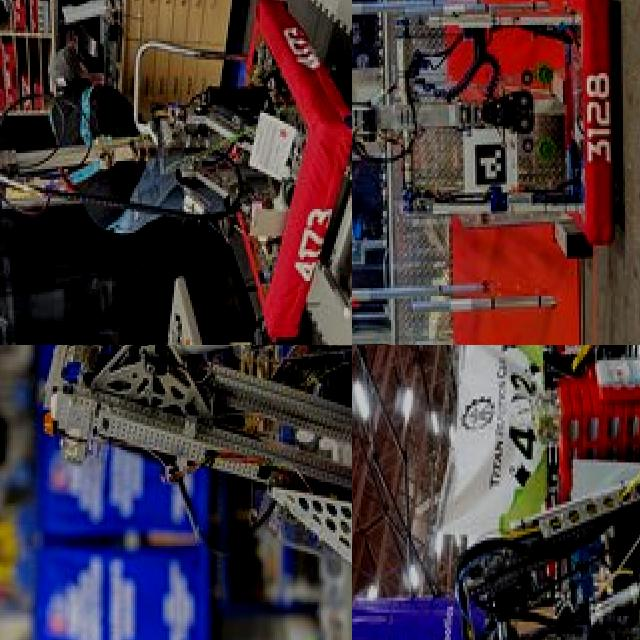FRC-Robots: (0, 0, 352, 345), (33, 345, 352, 640), (364, 0, 618, 263), (459, 345, 640, 640)
